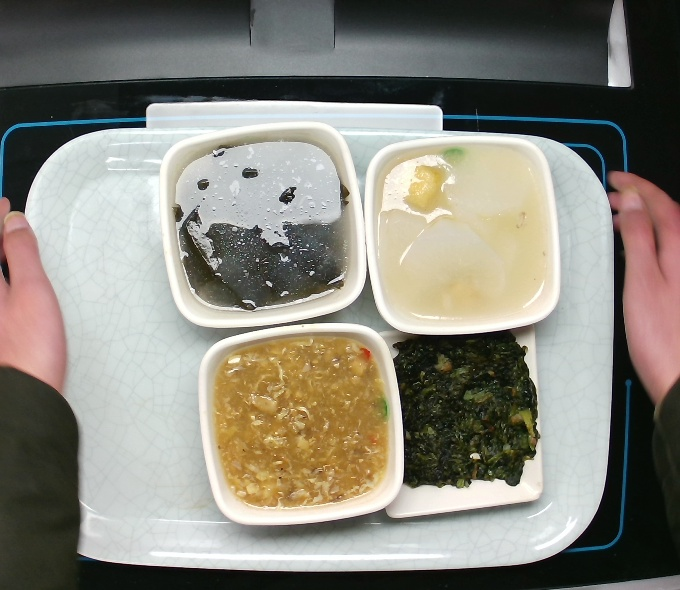wcq-HaiDaiPaiGuTang: (168, 135, 357, 309)
wcq-LuoBoYouPaoTang: (367, 141, 555, 322)
wcq-QinCaiBing: (389, 325, 542, 499)
wcq-SuanLaGeng: (210, 333, 393, 515)
